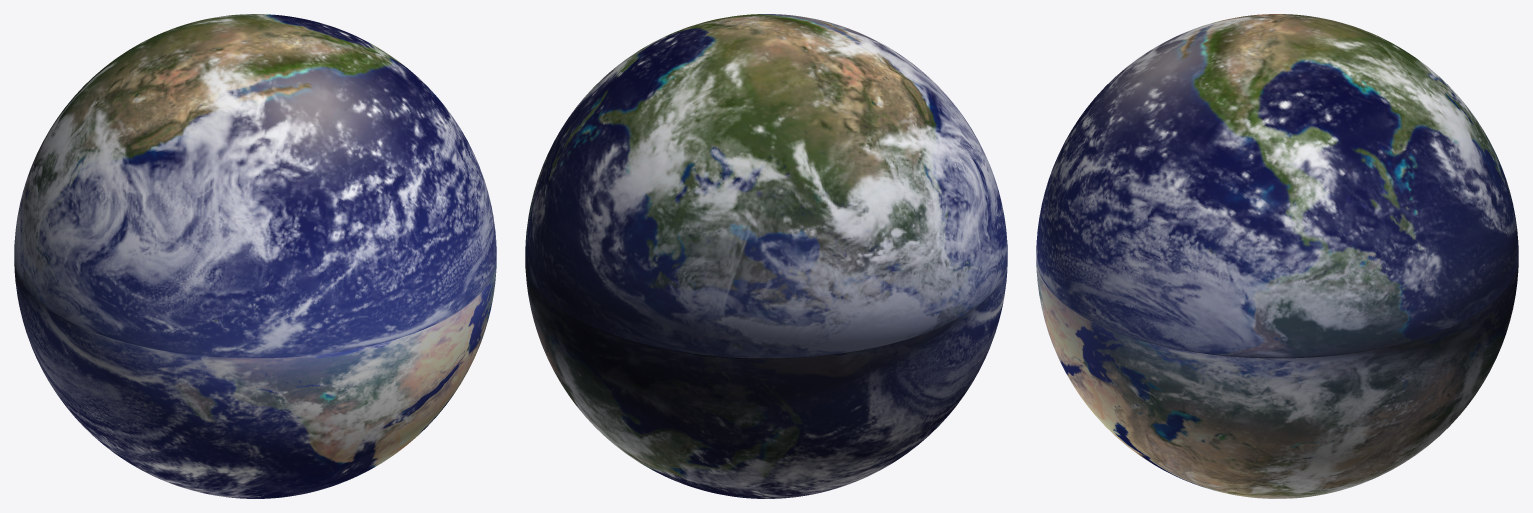
File: terre.obj
3 renders of one model, left to right at view 1: azimuth 30°, elevation 25°; view 2: azimuth 150°, elevation 25°; view 3: azimuth 270°, elevation 25°, orthographic.
Visible parts, largest first — view 1: Cube; view 2: Cube; view 3: Cube.
Boxes of the visible parts, left/top/right/bottom form: Cube: left=14, top=14, right=496, bottom=498; Cube: left=525, top=14, right=1007, bottom=498; Cube: left=1036, top=14, right=1518, bottom=498.
Size of the model in its own units: 1.98 by 2 by 1.98.
1 material, 1 textured.
